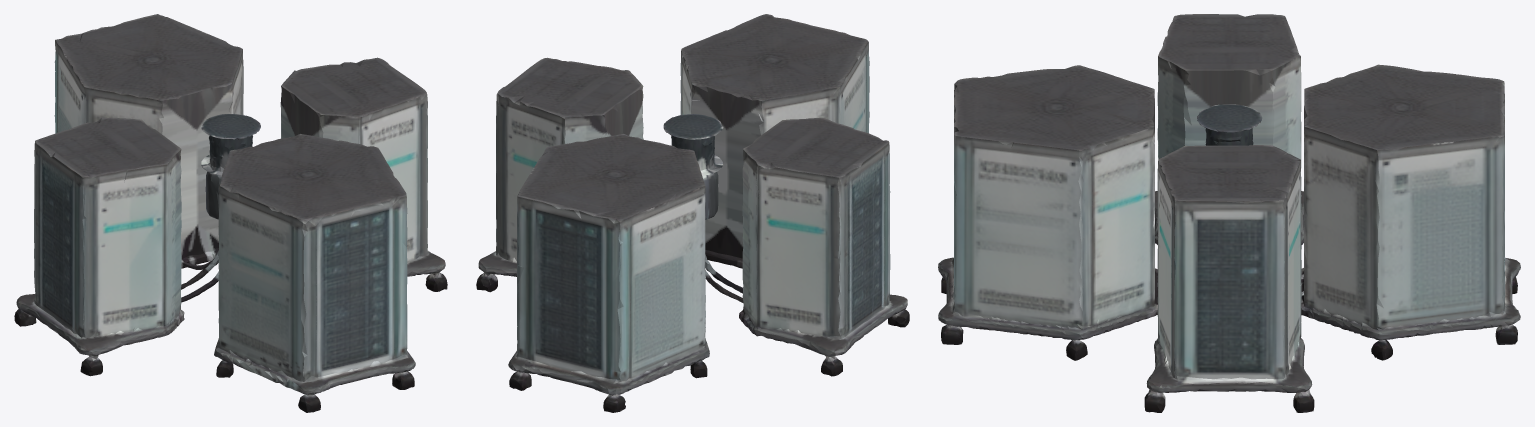
File: rodin_CK1_MissionServer_raw.glb
3 views of the same model, side by side, from view 1: azimuth 30°, elevation 25°; view 2: azimuth 150°, elevation 25°; view 3: azimuth 270°, elevation 25° (orthographic). The views are drawn at different scales.
Visible parts, largest first — view 1: model; view 2: model; view 3: model.
Part boxes in pixels (x1,y1,x2,y2): model: (14,14,447,412); model: (476,14,909,412); model: (938,14,1520,412).
Size of the model in its own units: 1.51 by 0.748 by 1.89.
1 material, 1 textured.
